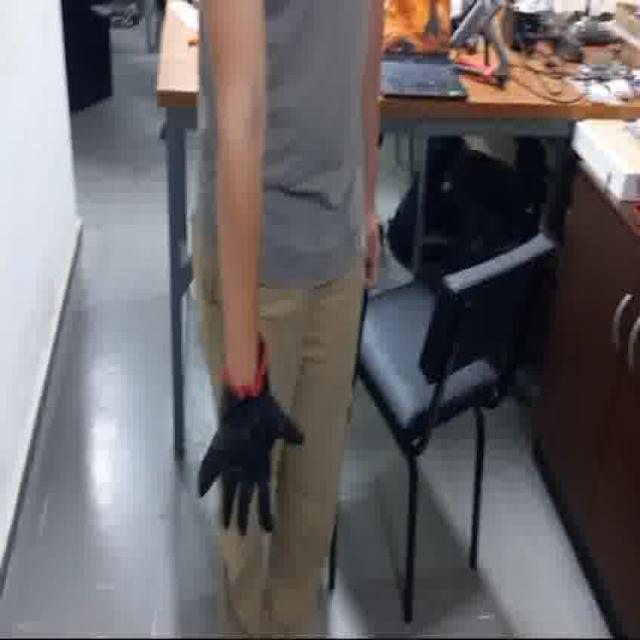Gloves: (197, 334, 304, 536)
